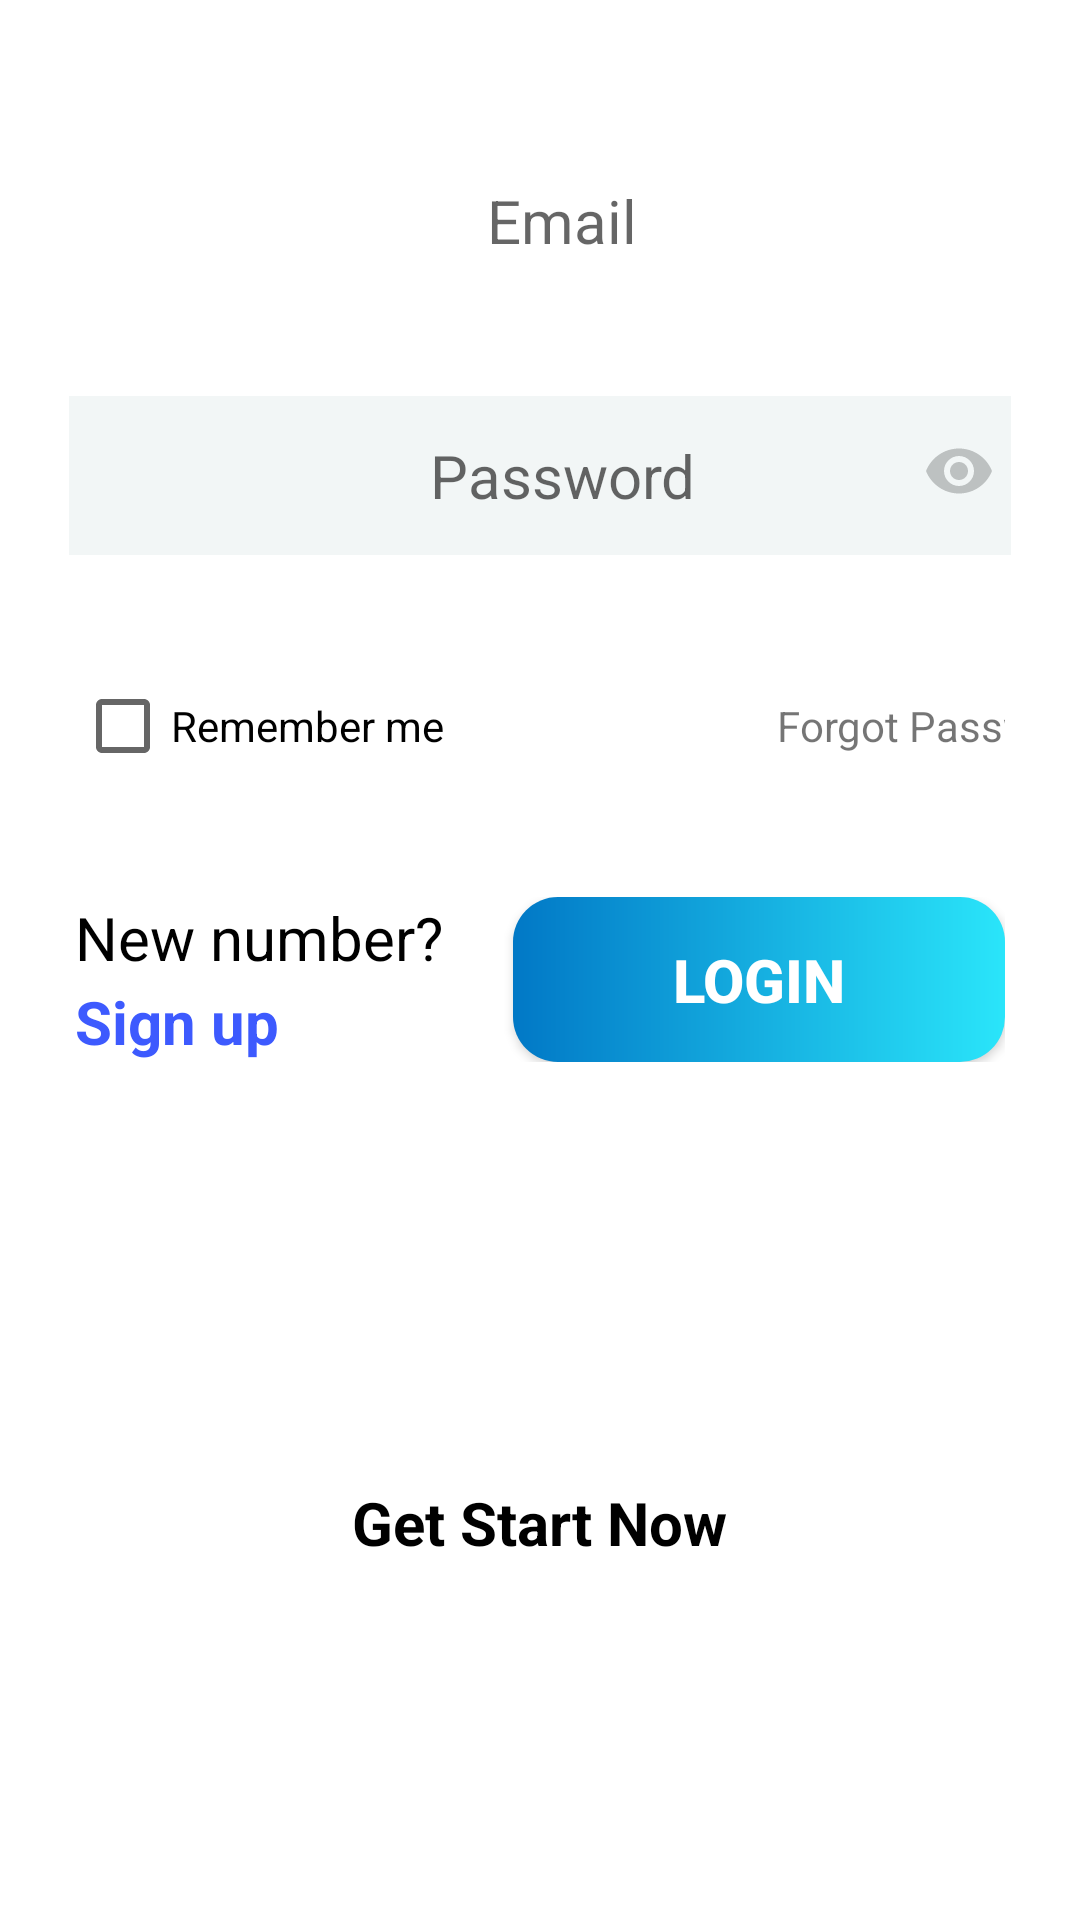

Locate icon controls on the screen. Image size 1080*1920, boxes as box=[x1, y1, x2, y2].
eye: box=[926, 448, 992, 494]
